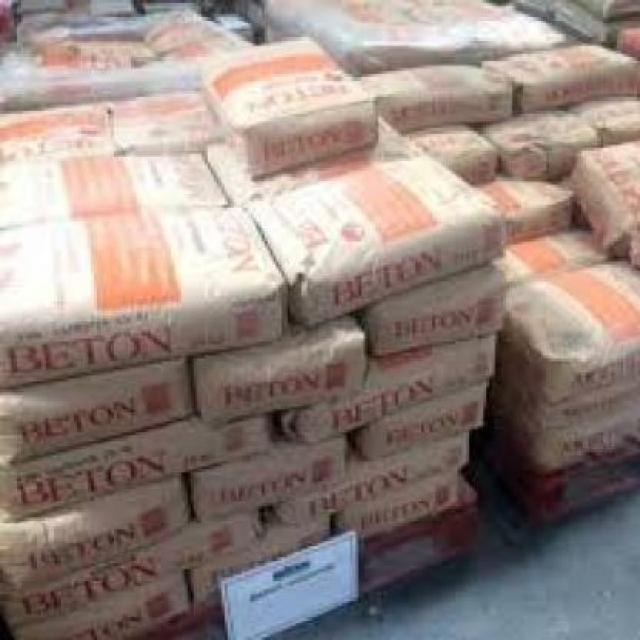gunny_bag: (0, 204, 288, 392), (256, 150, 509, 327), (2, 506, 264, 637), (0, 416, 278, 520), (205, 33, 376, 174), (0, 472, 194, 594), (286, 335, 490, 444), (0, 354, 199, 465), (262, 433, 472, 536), (504, 256, 640, 412), (199, 115, 422, 207), (193, 313, 367, 422), (493, 348, 640, 472), (2, 152, 232, 231), (185, 514, 337, 613), (191, 436, 357, 518), (362, 267, 507, 356), (8, 572, 196, 640), (354, 378, 485, 465), (359, 65, 517, 134), (480, 46, 640, 114), (332, 472, 477, 547), (472, 107, 602, 172), (570, 137, 638, 256), (472, 171, 575, 247), (0, 101, 123, 164), (495, 224, 615, 288), (114, 92, 226, 153), (406, 120, 498, 185), (569, 88, 640, 139)
